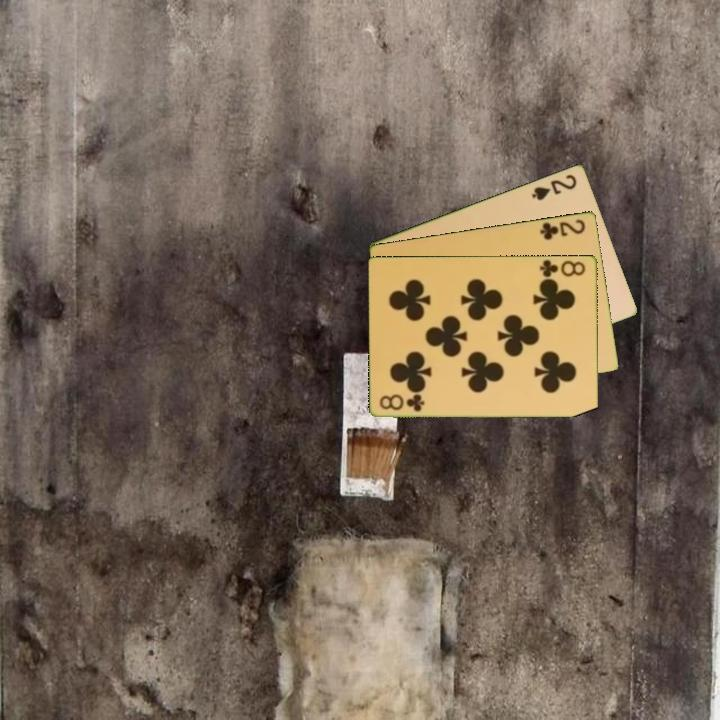2c: (536, 215, 588, 243)
2s: (528, 170, 580, 203)
8c: (537, 256, 588, 281), (376, 391, 428, 414)
